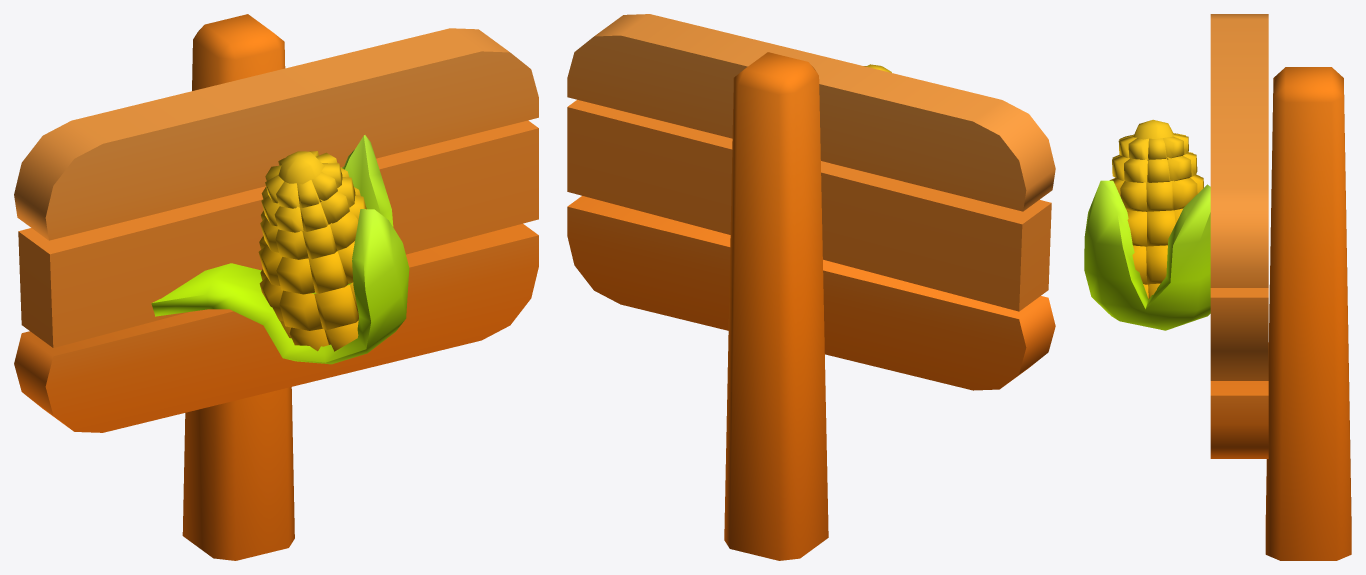
The model's file is Farm_Crop_Sign_Corn_01.glb.
3 views of the same model, side by side, from view 1: azimuth 30°, elevation 25°; view 2: azimuth 150°, elevation 25°; view 3: azimuth 270°, elevation 25° (orthographic). The views are drawn at different scales.
Parts seen in each view (by area): view 1: Farm_Crop_Sign_Corn_01; view 2: Farm_Crop_Sign_Corn_01; view 3: Farm_Crop_Sign_Corn_01.
Boxes of the visible parts, x1,y1,x2,y2 form: Farm_Crop_Sign_Corn_01: (14, 14, 538, 560); Farm_Crop_Sign_Corn_01: (567, 14, 1055, 560); Farm_Crop_Sign_Corn_01: (1084, 14, 1351, 560).
Size of the model in its own units: 0.9011 by 0.888 by 0.4619.
Materials: 1 (1 with a texture image).
